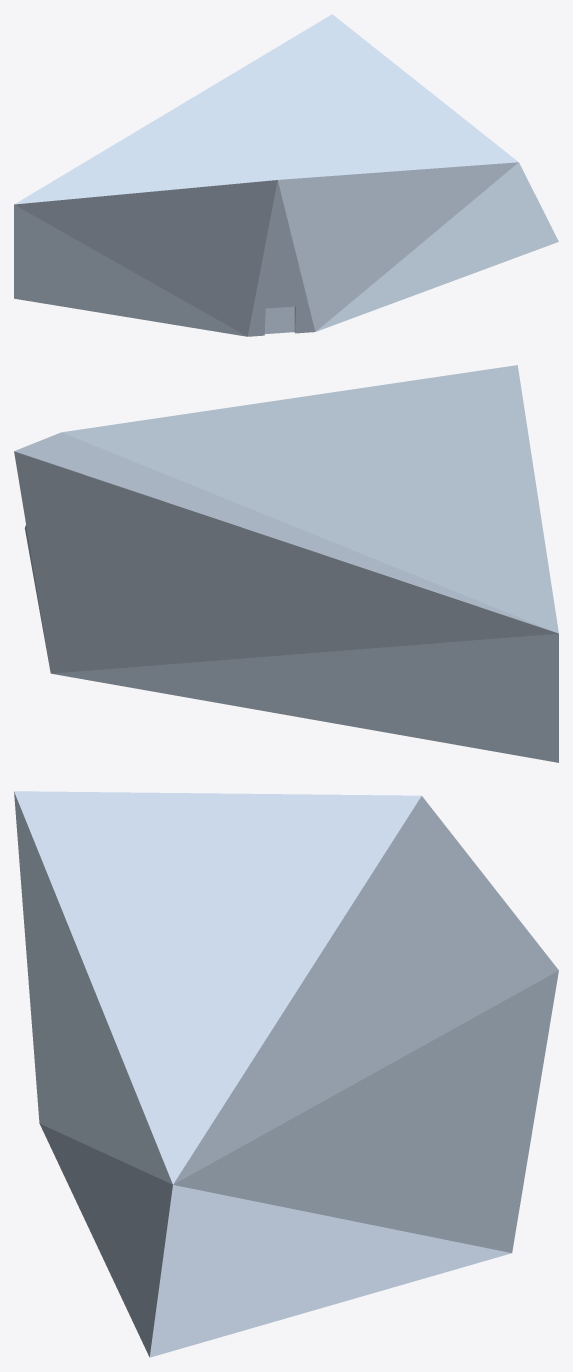
3 renders of one model, top to bottom at view 1: azimuth 30°, elevation 25°; view 2: azimuth 150°, elevation 25°; view 3: azimuth 270°, elevation 25°, orthographic. The views are drawn at different scales.
Parts seen in each view (by area): view 1: 70030076431358239lod; view 2: 70030076431358239lod; view 3: 70030076431358239lod.
Part boxes in pixels (x1,y1,x2,y2): 70030076431358239lod: (14,14,558,336); 70030076431358239lod: (14,365,558,762); 70030076431358239lod: (14,791,558,1357).
Bounding box in the file's own units: 47.21 × 16.28 × 27.34.
1 material, 1 textured.
